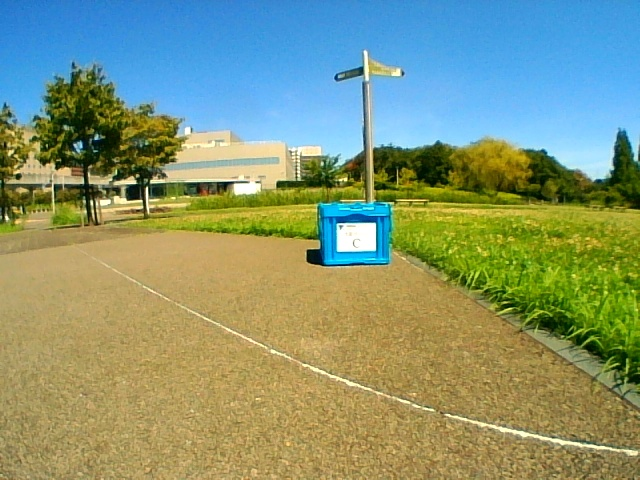blue_box: (320, 203, 388, 261)
tag: (339, 224, 372, 250)
